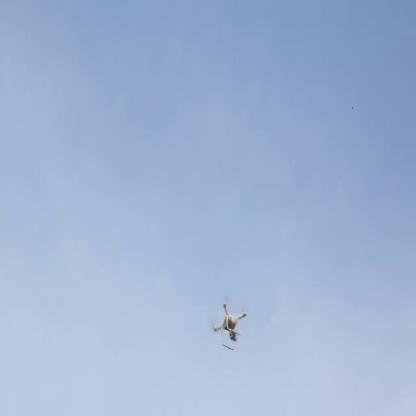drone: (206, 294, 253, 346)
